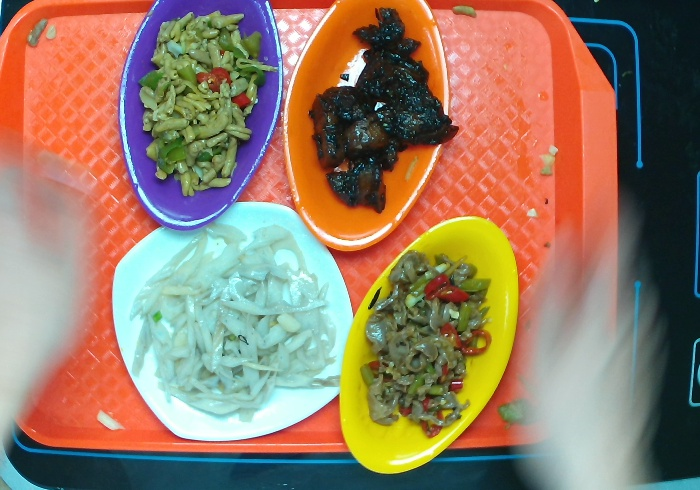RJxy-Fen_Hong_Tuo_Yuan: (116, 1, 285, 228)
RJxy-Huang_Se_Tuo_Yuan: (336, 216, 522, 474)
RJxy-Ju_Huang_Tuo_Yuan: (280, 1, 449, 254)
RJxy-Si_Fang_Die: (106, 202, 353, 443)
